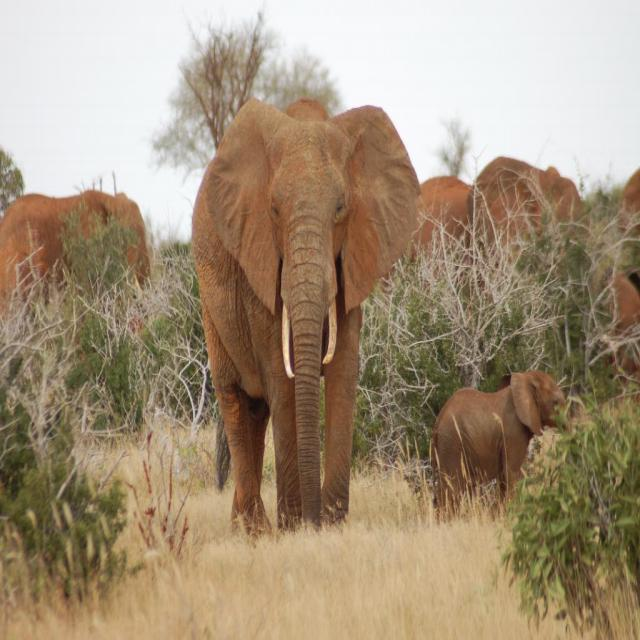elephant: (190, 97, 422, 547), (430, 368, 576, 526), (0, 189, 148, 296), (466, 156, 580, 262), (419, 171, 468, 249), (610, 264, 639, 385), (619, 162, 639, 245)
